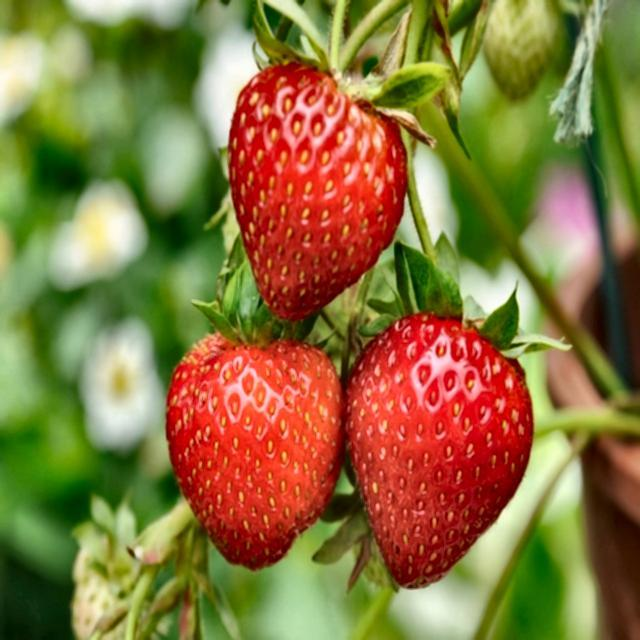strawberry: (346, 312, 534, 588), (228, 62, 408, 319), (166, 332, 342, 569)
